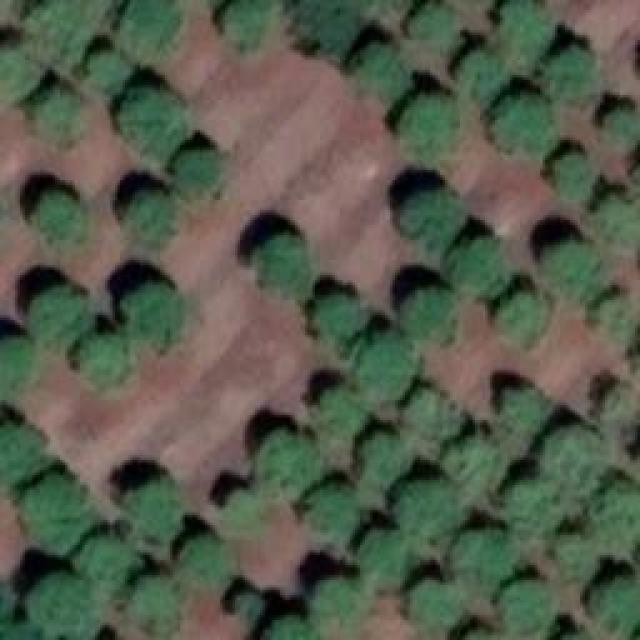Tree: (23, 475, 93, 548), (543, 425, 606, 495), (120, 88, 188, 151), (253, 430, 326, 488), (27, 577, 92, 640), (30, 285, 93, 348), (402, 190, 470, 248), (360, 333, 415, 398), (443, 438, 508, 493), (585, 480, 640, 545), (405, 95, 460, 160), (210, 0, 295, 42), (125, 282, 185, 340), (450, 235, 505, 298), (505, 478, 568, 533), (252, 235, 310, 293), (397, 477, 455, 535), (455, 528, 518, 581), (540, 240, 600, 293), (297, 0, 357, 52), (125, 480, 178, 538), (492, 95, 550, 148), (353, 40, 408, 95), (0, 423, 48, 486), (75, 535, 135, 585), (308, 485, 361, 540), (495, 290, 545, 348), (355, 430, 403, 488), (500, 580, 548, 638), (540, 50, 598, 98), (78, 335, 131, 385), (30, 0, 85, 48), (308, 575, 363, 623), (123, 0, 176, 48), (405, 290, 458, 338), (33, 190, 83, 240), (128, 578, 178, 628), (410, 578, 460, 628), (360, 528, 405, 583), (597, 575, 640, 632), (125, 193, 173, 243), (505, 0, 550, 52), (557, 530, 605, 578), (550, 150, 595, 200), (597, 195, 640, 245), (178, 147, 221, 195), (315, 388, 363, 431), (180, 538, 225, 583), (407, 0, 454, 42), (0, 335, 38, 385), (318, 295, 368, 333), (405, 388, 443, 438), (0, 50, 40, 93), (505, 388, 548, 428), (597, 385, 640, 425), (460, 53, 503, 93), (37, 85, 75, 130), (590, 292, 633, 330), (260, 617, 320, 640), (223, 488, 268, 518), (92, 50, 130, 85), (607, 107, 640, 144), (238, 588, 261, 611)
